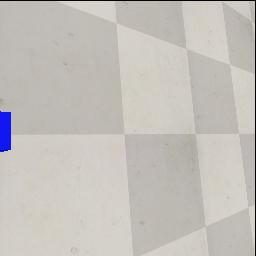box: (0, 111, 11, 152)
